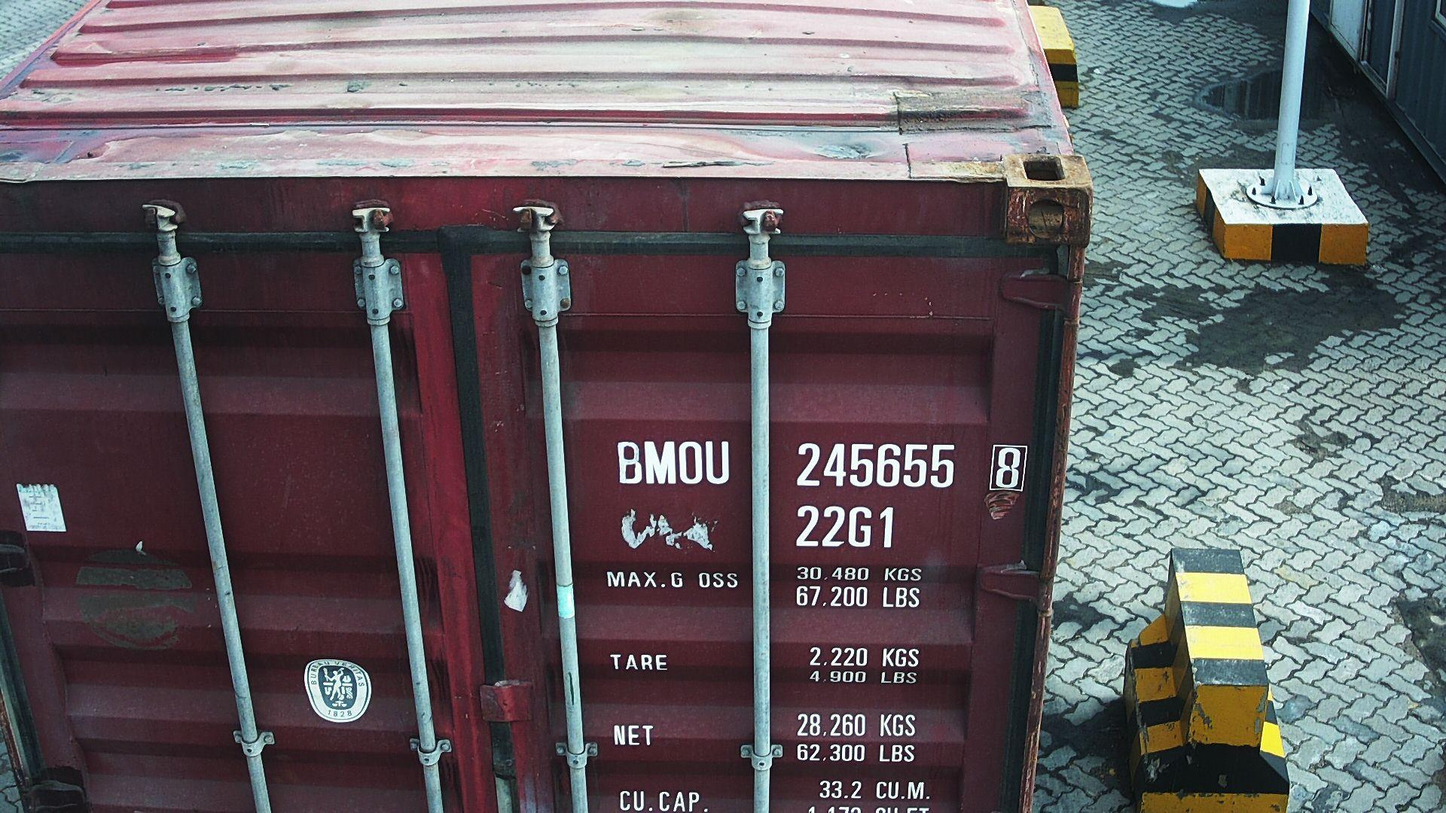container-numbers: (612, 436, 1033, 495), (792, 502, 900, 552)
